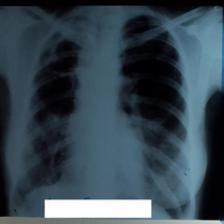tuberculosis: (11, 6, 192, 218)
